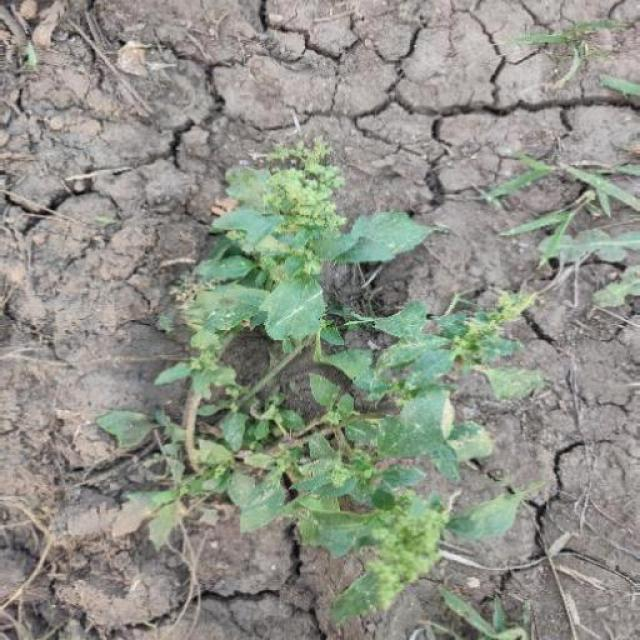weed: (148, 142, 546, 598)
